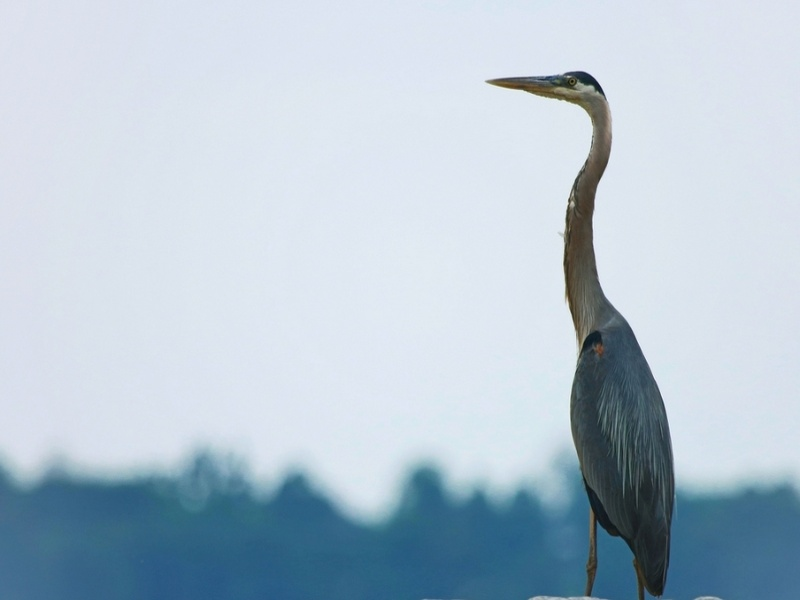heron: (483, 66, 678, 591)
